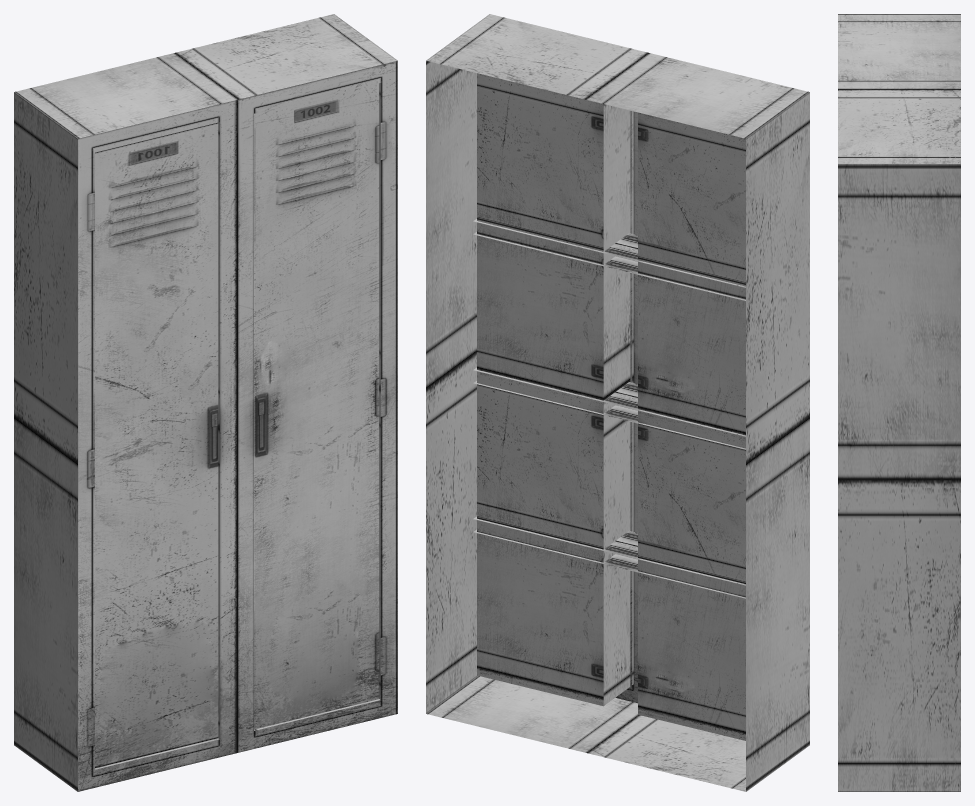
File: locker_01.FBX
The picture shows the model from 3 angles, left to right: view 1: azimuth 30°, elevation 25°; view 2: azimuth 150°, elevation 25°; view 3: azimuth 270°, elevation 25°; orthographic projection. The views are drawn at different scales.
Visible parts, largest first — view 1: dor (×2), locker_01; view 2: locker_01, dor; view 3: locker_01.
Part boxes in pixels (<box>): dor (×2): <box>95,83,379,768</box>; locker_01: <box>14,14,397,791</box>; locker_01: <box>426,14,809,791</box>; dor: <box>630,110,632,686</box>; locker_01: <box>838,14,960,791</box>.
Bounding box in the file's own units: 105 × 205 × 36.23.
